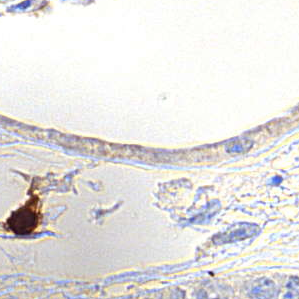Lymphocyte: (7, 196, 40, 234)
